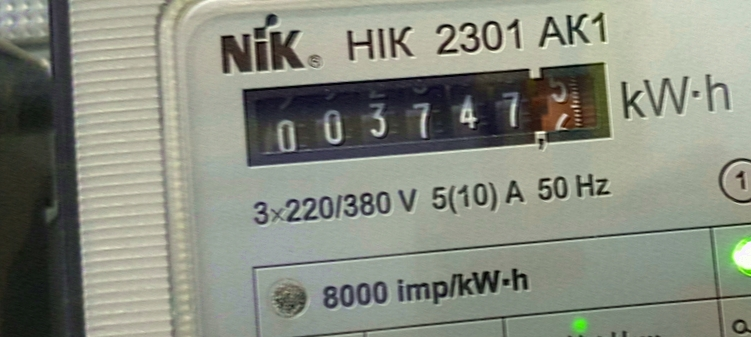0: (275, 116, 300, 153), (322, 105, 345, 145)
3: (367, 100, 389, 138)
4: (456, 90, 480, 132)
5: (548, 73, 570, 103)
6: (552, 109, 572, 131)
7: (499, 87, 525, 128), (411, 98, 434, 139)
screen: (232, 44, 628, 184)
